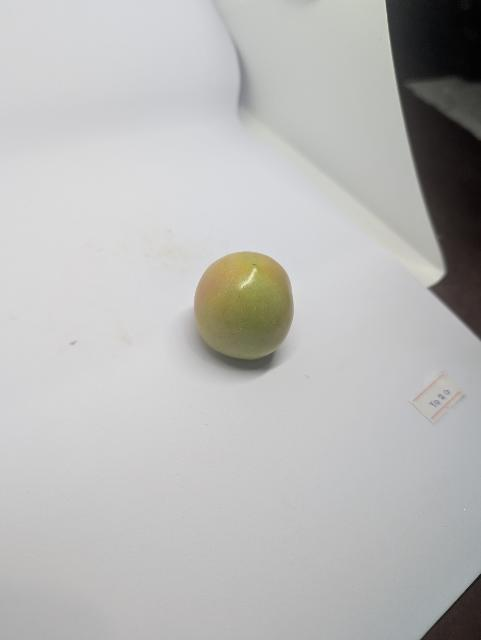breaker: (195, 252, 294, 360)
